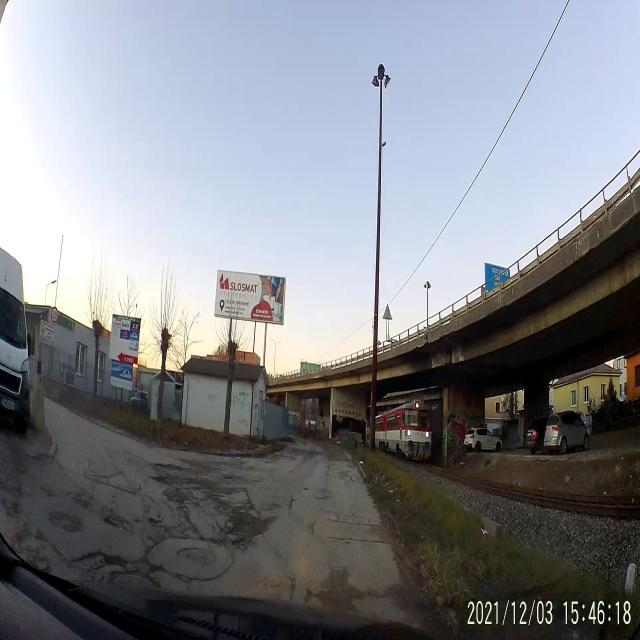Manhole: (50, 508, 84, 534), (179, 546, 214, 566)
Pothole: (224, 510, 272, 546), (92, 554, 158, 576), (101, 509, 132, 531), (146, 514, 172, 532)
